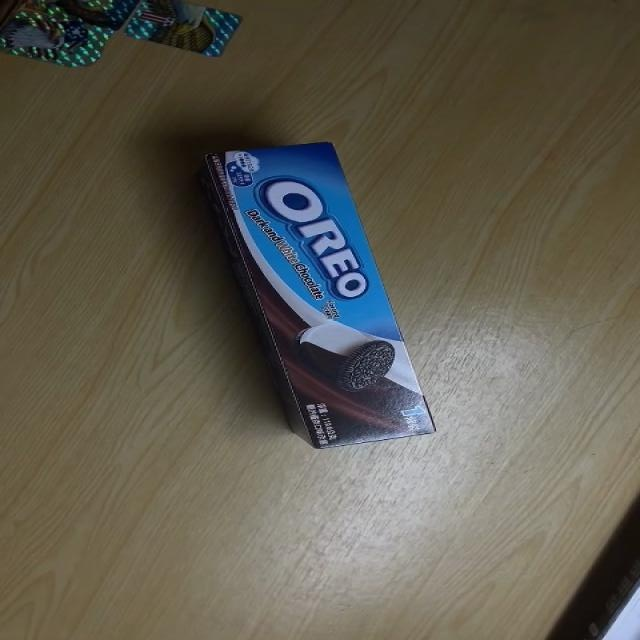Oreo: (206, 142, 437, 449)
